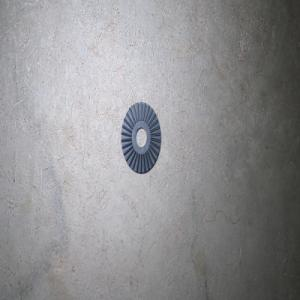Washer: (121, 101, 161, 173)
